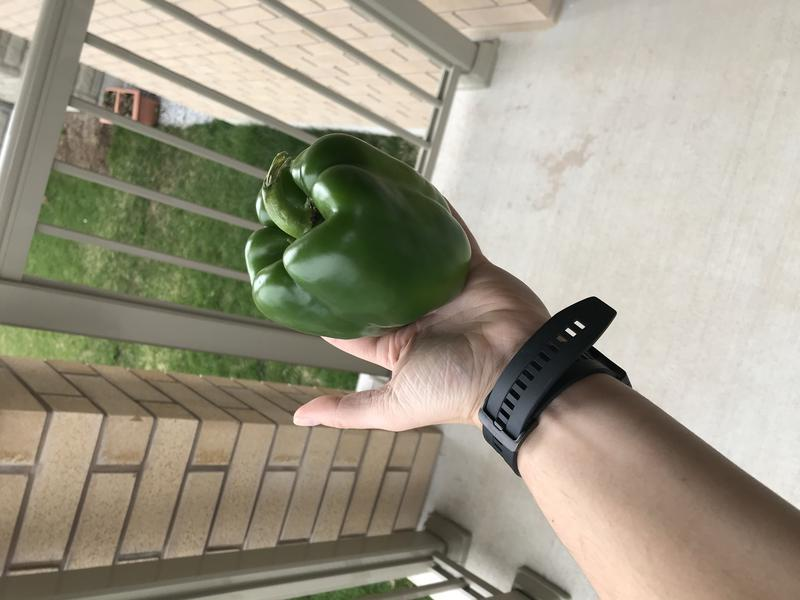green_pepper: (238, 129, 487, 349)
